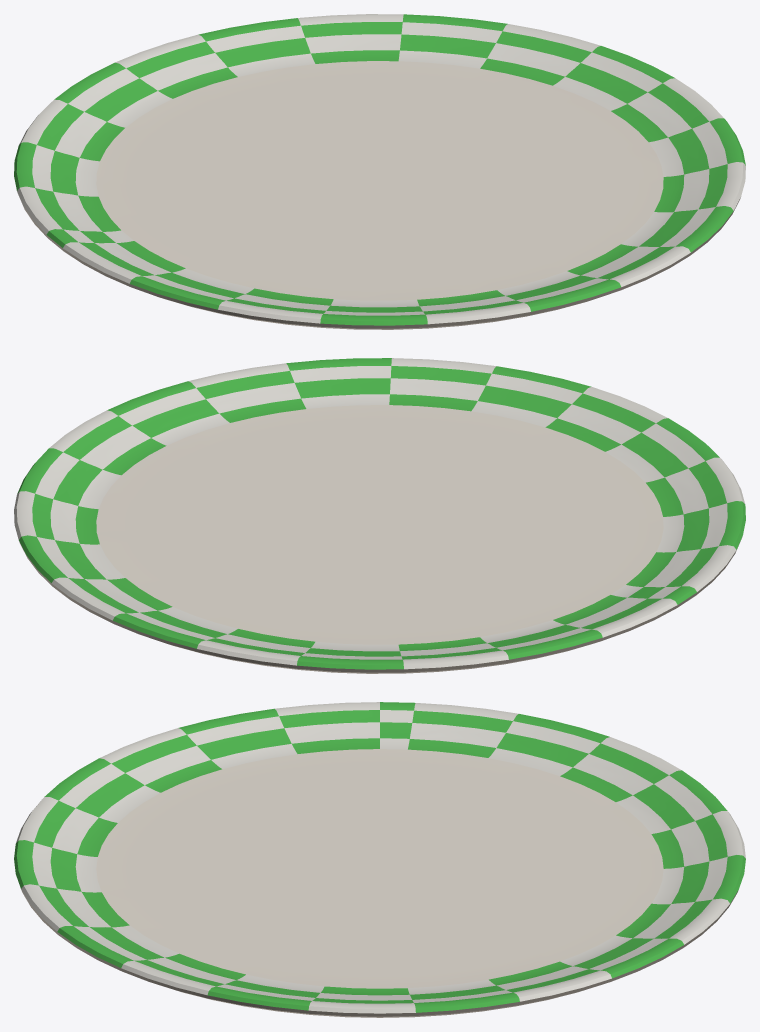
Rendered from plate_checker.glb.
The picture shows the model from 3 angles, top to bottom: view 1: azimuth 30°, elevation 25°; view 2: azimuth 150°, elevation 25°; view 3: azimuth 270°, elevation 25°; orthographic projection.
Parts seen in each view (by area): view 1: body; view 2: body; view 3: body.
Part boxes in pixels (bbox=[...]): body: bbox=[14, 14, 745, 329]; body: bbox=[14, 358, 745, 673]; body: bbox=[14, 702, 745, 1017].
Bounding box in the file's own units: 1.6 × 0.0939 × 1.6.
